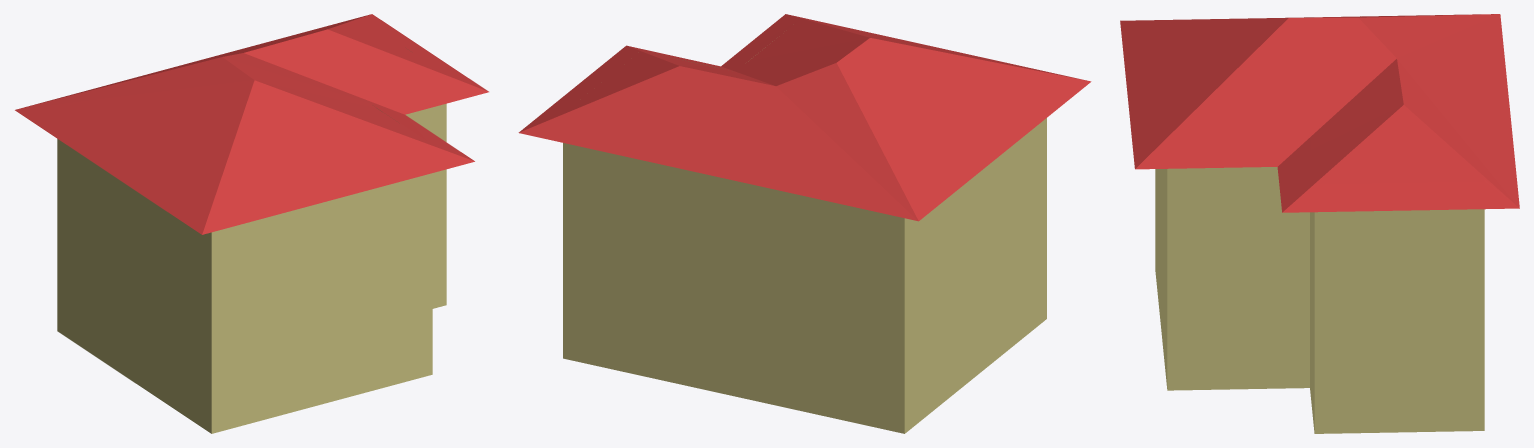
3 renders of one model, left to right at view 1: azimuth 30°, elevation 25°; view 2: azimuth 150°, elevation 25°; view 3: azimuth 270°, elevation 25°, orthographic. The views are drawn at different scales.
Parts seen in each view (by area): view 1: group_5, group_3, group_4; view 2: group_5, group_3, group_4; view 3: group_5, group_3, group_4.
Part boxes in pixels (x1,y1,x2,y2): group_5: [57, 103, 446, 433]; group_3: [16, 14, 474, 234]; group_4: [15, 14, 488, 234]; group_5: [563, 41, 1046, 433]; group_3: [519, 14, 1090, 221]; group_4: [519, 18, 1090, 220]; group_5: [1155, 14, 1484, 433]; group_3: [1120, 14, 1519, 212]; group_4: [1148, 14, 1519, 212].
Size of the model in its own units: 13.89 by 11.81 by 10.04.
